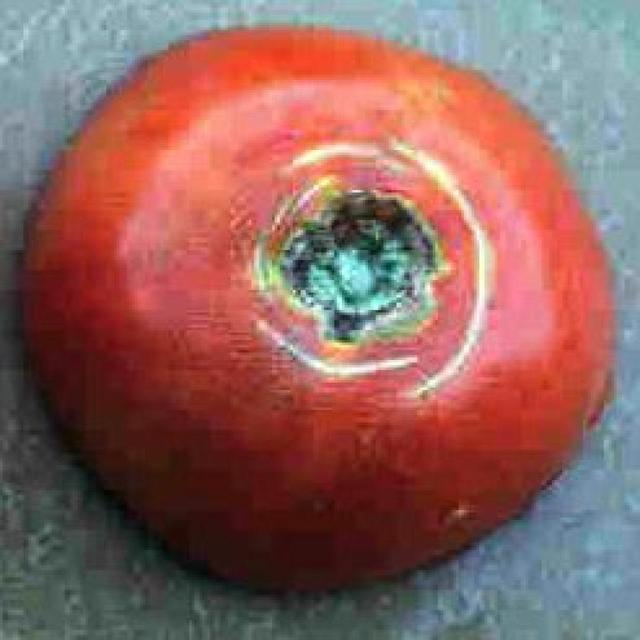Cracking Fruit: (64, 28, 295, 230)
